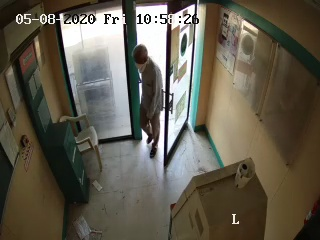open: (121, 2, 194, 174)
